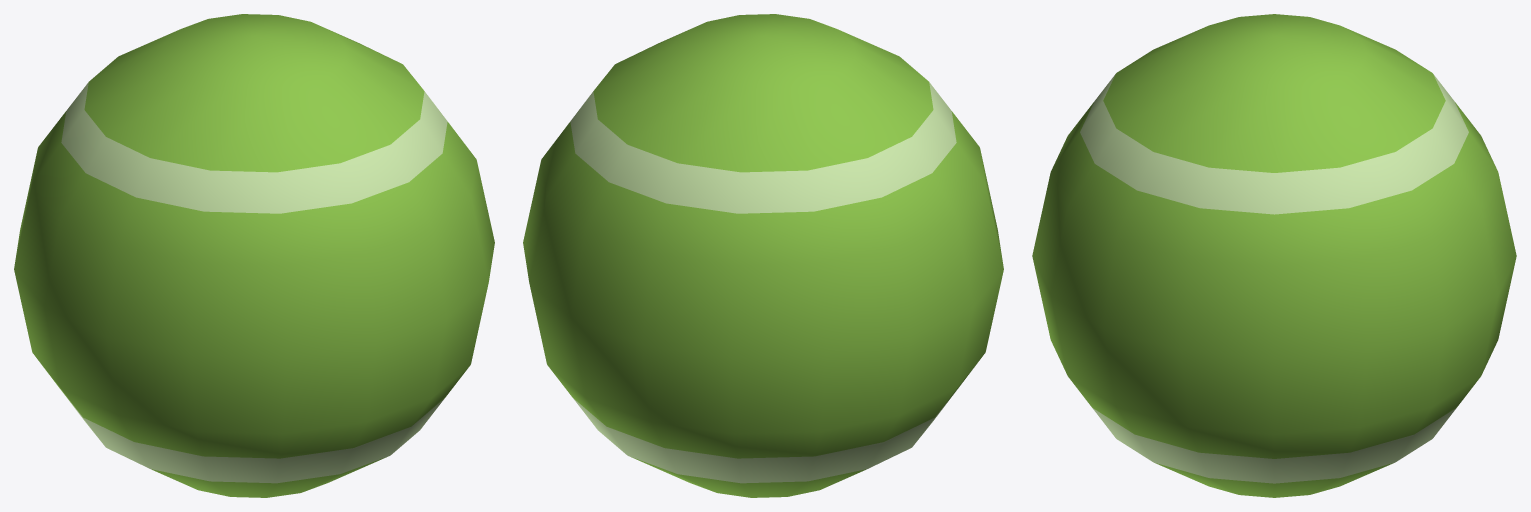
Rendered from tennis_ball.fbx.
3 views of the same model, side by side, from view 1: azimuth 30°, elevation 25°; view 2: azimuth 150°, elevation 25°; view 3: azimuth 270°, elevation 25° (orthographic).
Parts seen in each view (by area): view 1: tennis_ball; view 2: tennis_ball; view 3: tennis_ball.
Part boxes in pixels (x1=…): tennis_ball: x1=14, y1=14, x2=494, y2=497; tennis_ball: x1=523, y1=14, x2=1003, y2=497; tennis_ball: x1=1032, y1=14, x2=1516, y2=497.
Size of the model in its own units: 9.69 by 9.69 by 9.69.
